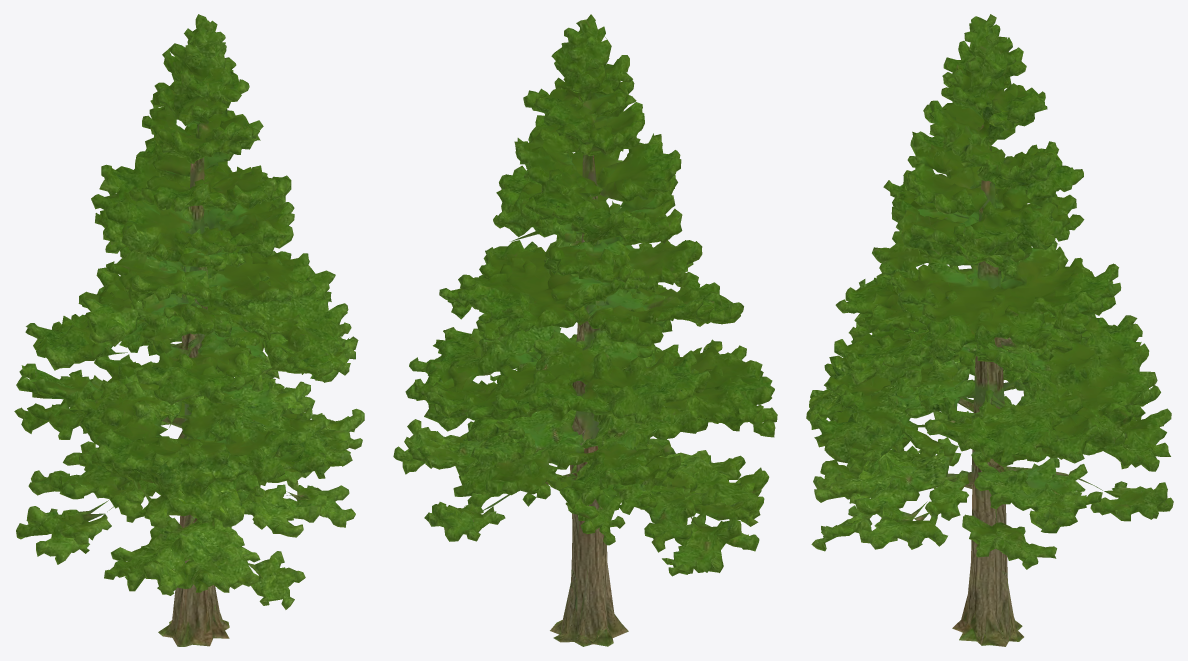
File: tree_2.glb
3 views of the same model, side by side, from view 1: azimuth 30°, elevation 25°; view 2: azimuth 150°, elevation 25°; view 3: azimuth 270°, elevation 25° (orthographic).
Visible parts, largest first — view 1: Mesh_0; view 2: Mesh_0; view 3: Mesh_0.
Part boxes in pixels (x1=…): Mesh_0: x1=14, y1=14, x2=364, y2=646; Mesh_0: x1=393, y1=14, x2=777, y2=646; Mesh_0: x1=806, y1=14, x2=1173, y2=646.
Bounding box in the file's own units: 1.1 × 1.91 × 1.03.
1 material, 1 textured.
